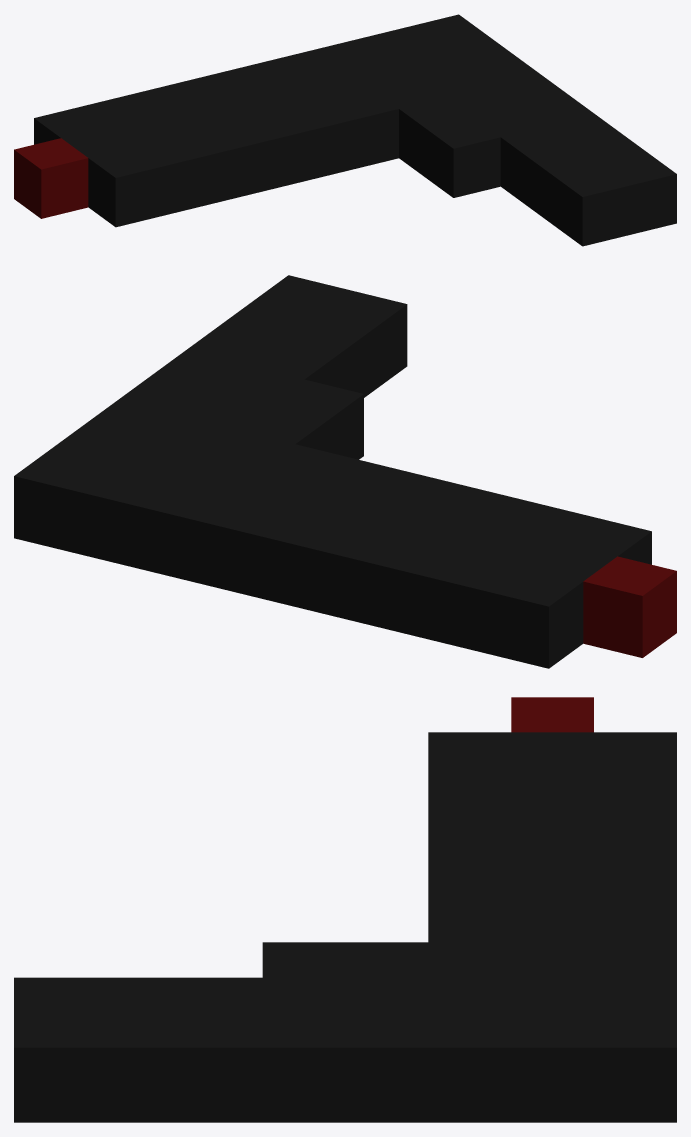
File: prop gun_78.obj
3 renders of one model, top to bottom at view 1: azimuth 30°, elevation 25°; view 2: azimuth 150°, elevation 25°; view 3: azimuth 270°, elevation 25°, orthographic. The views are drawn at different scales.
Parts seen in each view (by area): view 1: prop_gun_78; view 2: prop_gun_78; view 3: prop_gun_78.
Boxes of the visible parts, x1,y1,x2,y2 form: prop_gun_78: (14, 14, 676, 246); prop_gun_78: (14, 275, 676, 668); prop_gun_78: (14, 697, 676, 1122).
Size of the model in its own units: 1 by 0.1 by 0.8.
1 material, 1 textured.
